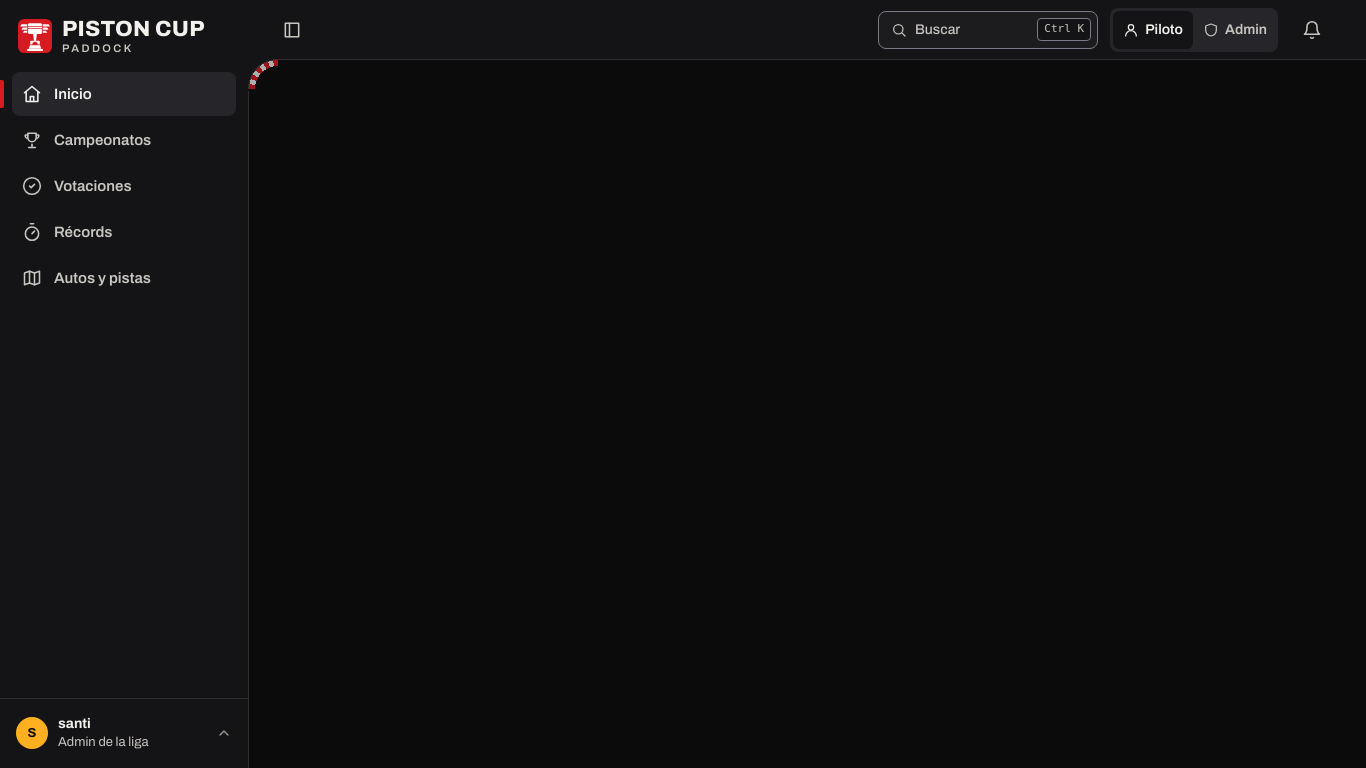
Test: App › starts an admin in the driver mode and switches to the admin mode
Expected: the link "Ligas" is not shown
Click the button with aria-label "Modo admin" at (1235, 30), box [1195, 10, 1275, 48]
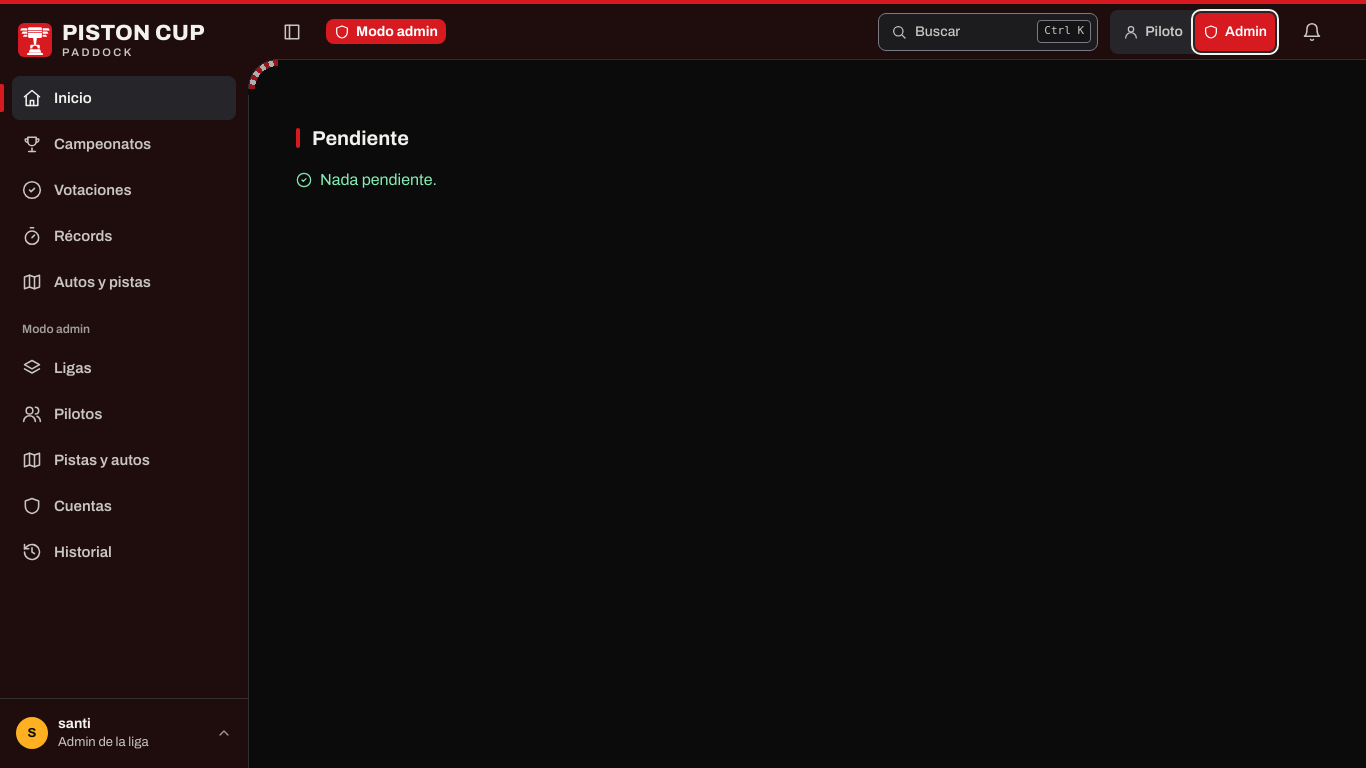
Expected: the link "Ligas" is shown, [22, 358, 92, 378]
Click the button with aria-label "Modo piloto" at (1153, 32), box [1113, 12, 1193, 50]
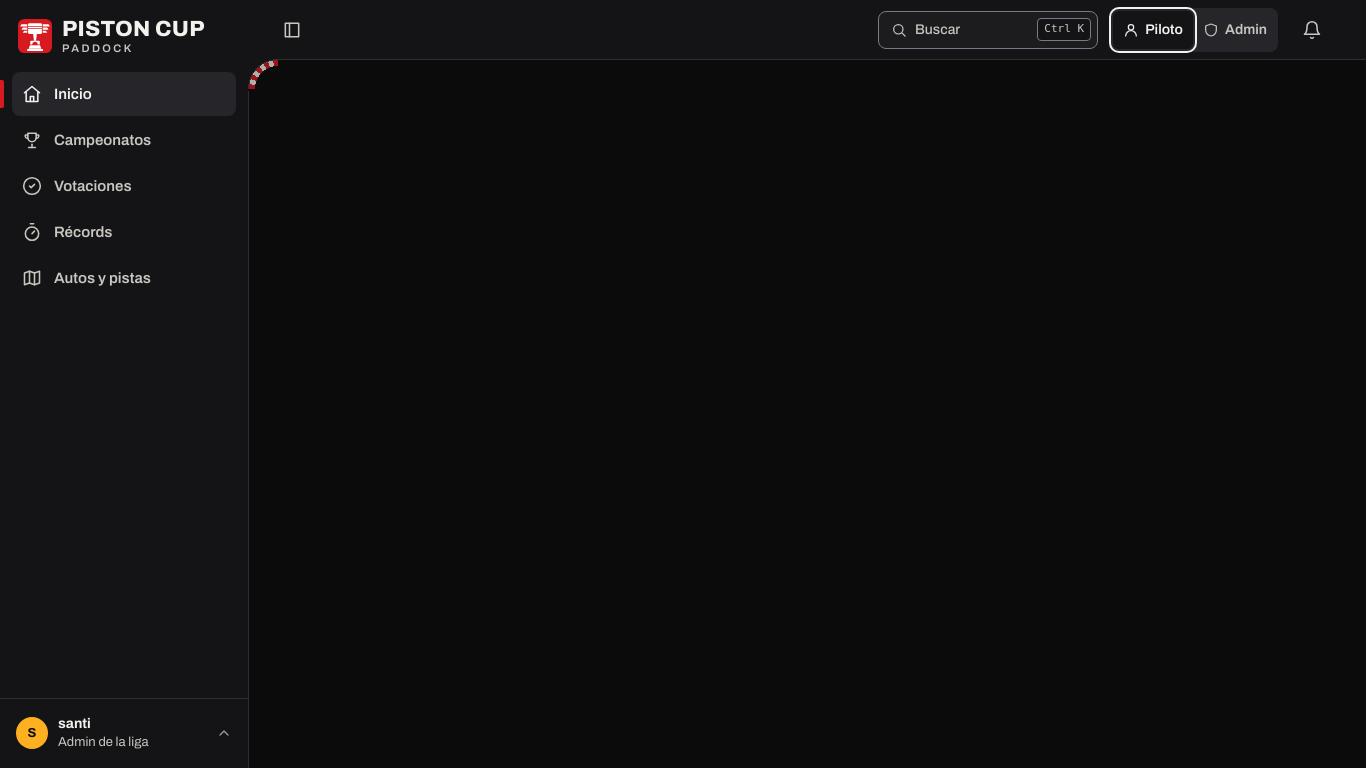
Expected: the link "Ligas" is gone
